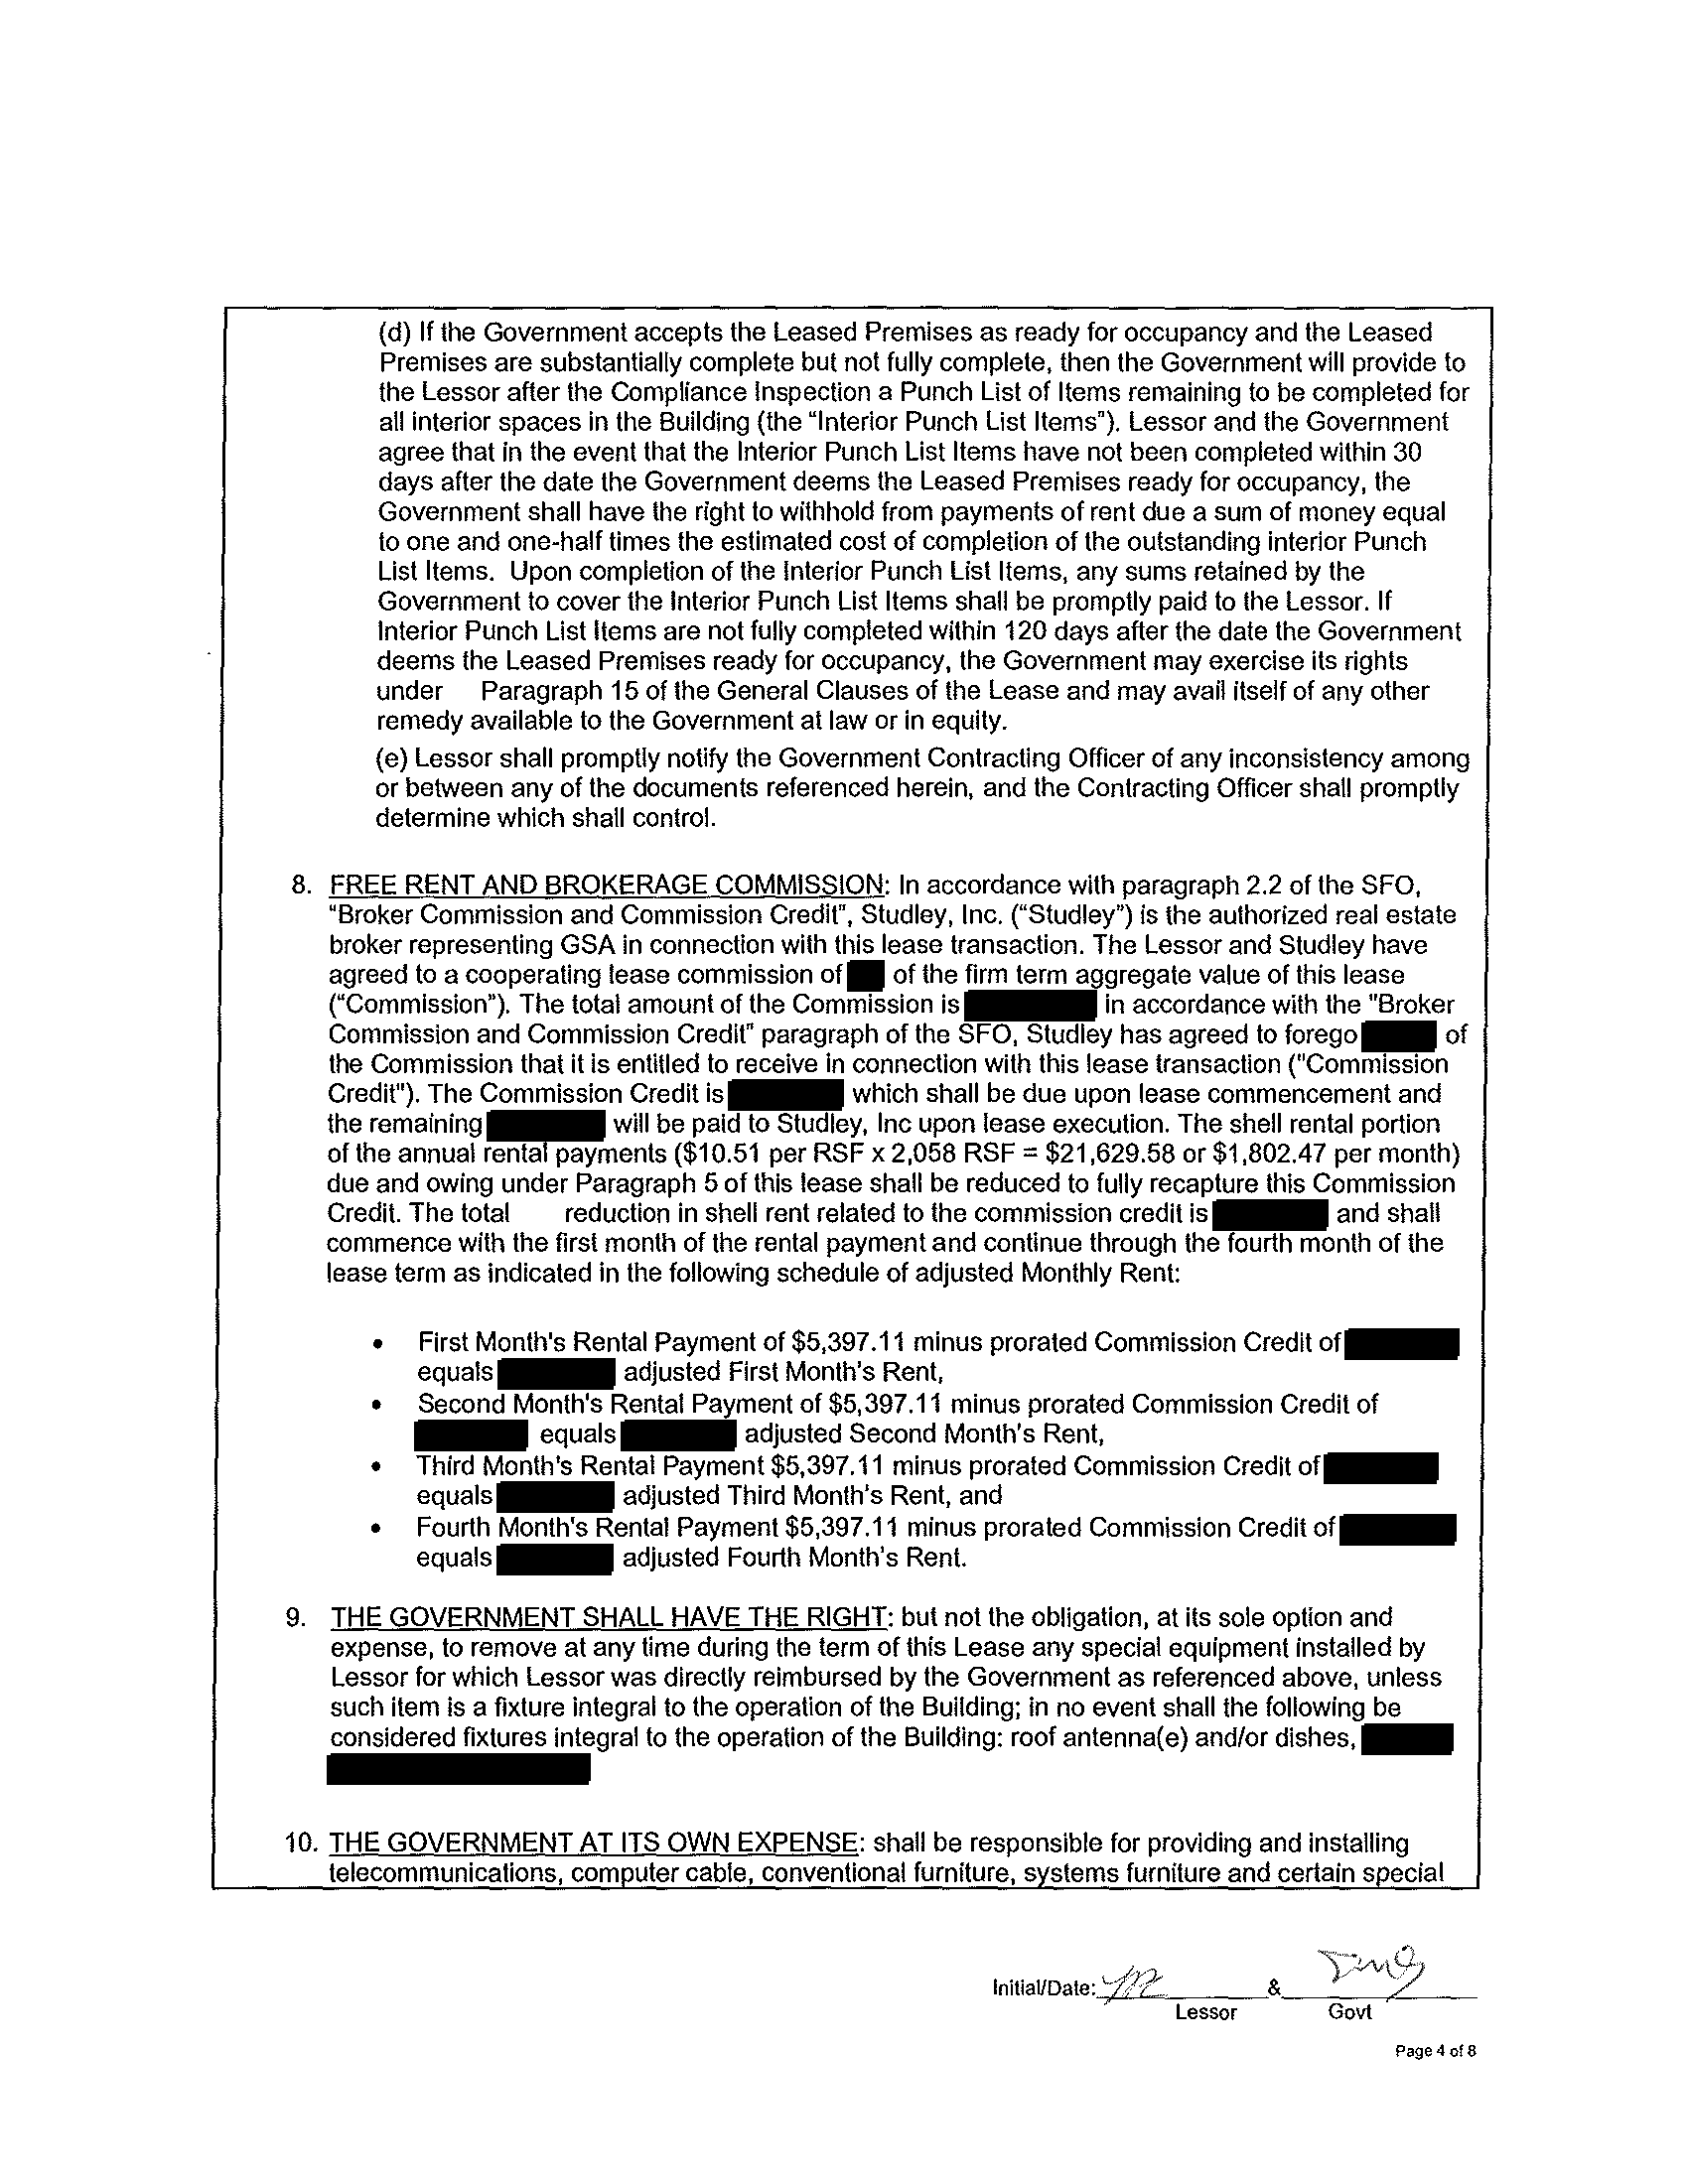handwritten: (1310, 1923, 1466, 2000), (1098, 1954, 1197, 2000)
